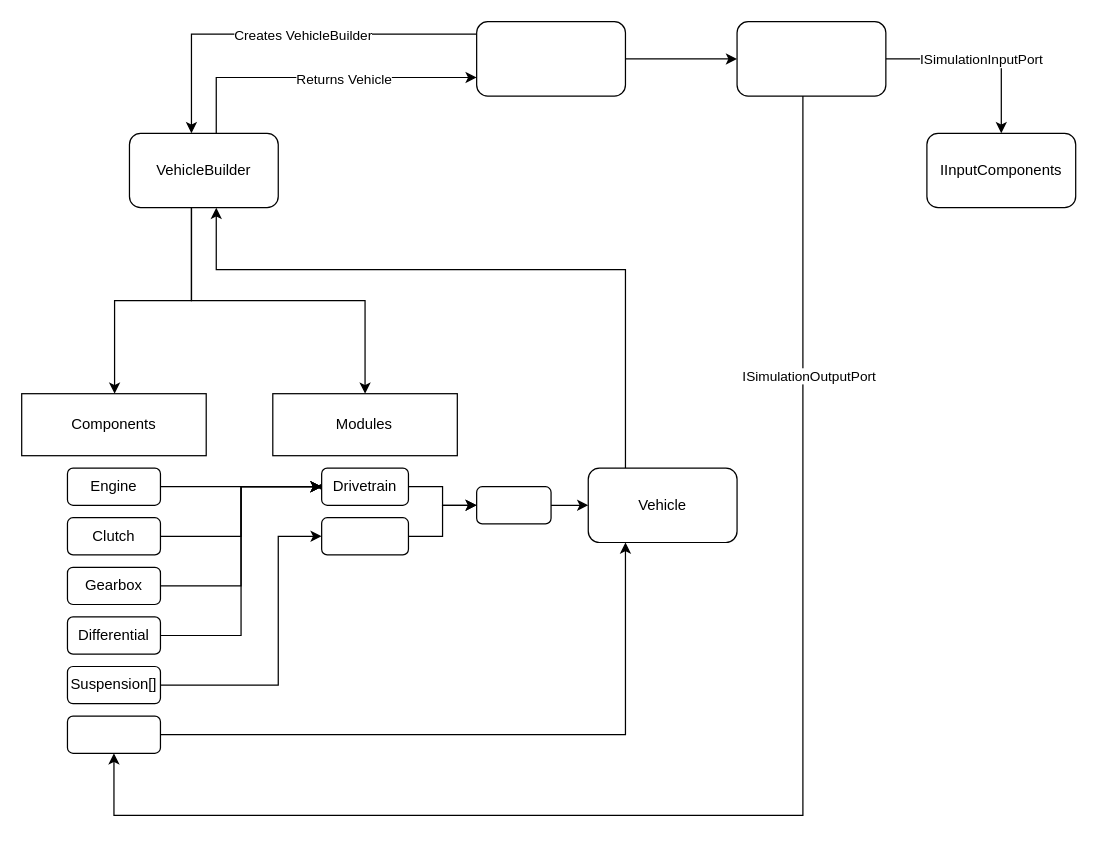
Image size: 1097x847. Some labels were removed from this diagram. The centre of each missing label's shape, as x and y in pixels:
Modules[]: (513,504)
Simulation IO Linking Dictionaries: (811,58)
Suspensions: (364,535)
VehicleController: (550,58)
Wheels[]: (113,734)
